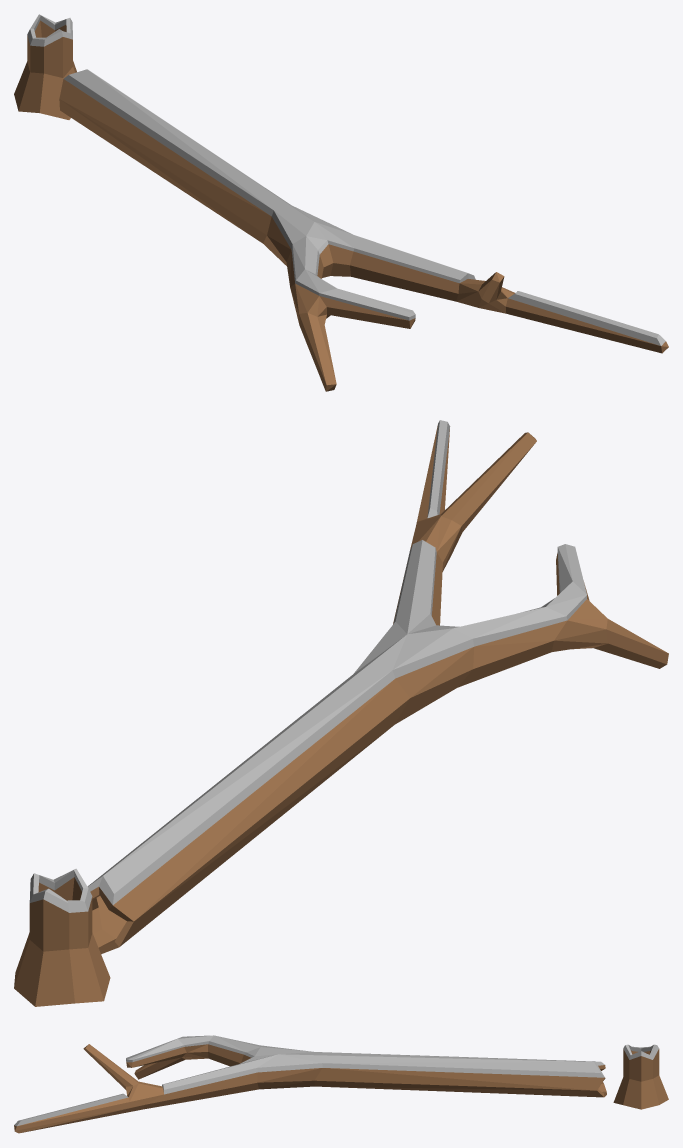
The model's file is Tree_2 Broken Winter.fbx.
3 renders of one model, top to bottom at view 1: azimuth 30°, elevation 25°; view 2: azimuth 150°, elevation 25°; view 3: azimuth 270°, elevation 25°, orthographic. The views are drawn at different scales.
Visible parts, largest first — view 1: Tree2BrokenWinter_mesh; view 2: Tree2BrokenWinter_mesh; view 3: Tree2BrokenWinter_mesh.
Boxes of the visible parts, box(x1,y1,x2,y2) form: Tree2BrokenWinter_mesh: box(14, 14, 668, 391); Tree2BrokenWinter_mesh: box(14, 420, 668, 1006); Tree2BrokenWinter_mesh: box(14, 1035, 668, 1133).
Bounding box in the file's own units: 351 × 149 × 1112.
